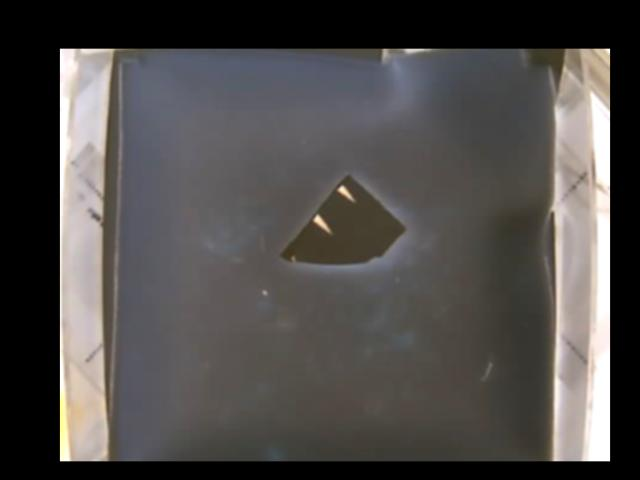China: (284, 173, 407, 265)
